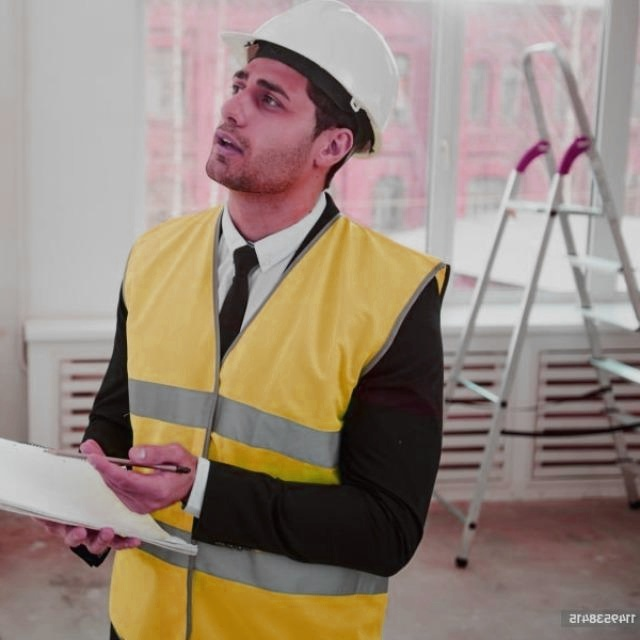Con_Casco: (202, 0, 405, 192)
Con_Chaleco: (109, 205, 423, 640)
